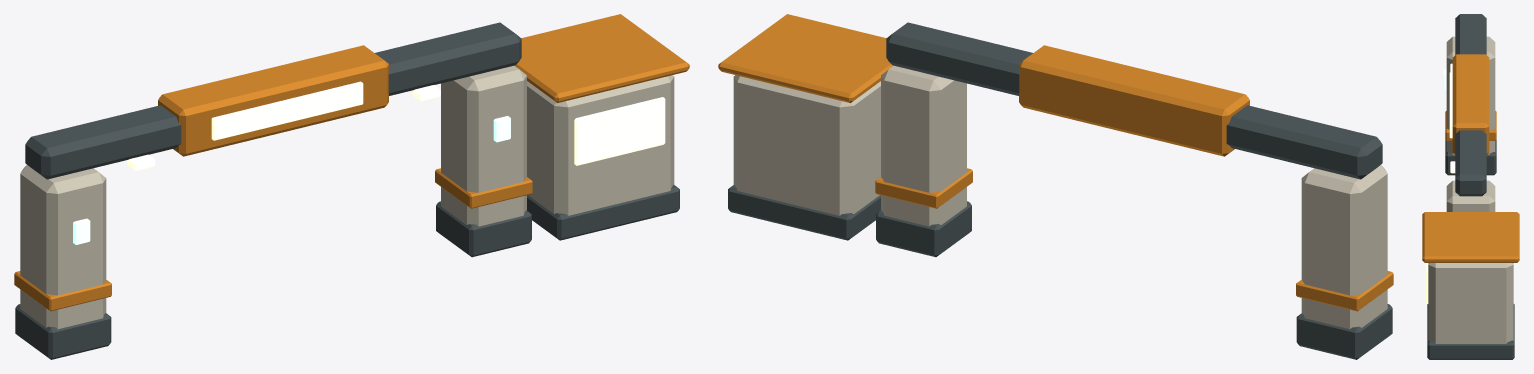
File: fh_gate.glb
3 renders of one model, left to right at view 1: azimuth 30°, elevation 25°; view 2: azimuth 150°, elevation 25°; view 3: azimuth 270°, elevation 25°, orthographic. The views are drawn at different scales.
Parts seen in each view (by area): view 1: fh_gate; view 2: fh_gate; view 3: fh_gate.
Boxes of the visible parts, bbox=[...] form: fh_gate: bbox=[14, 14, 689, 359]; fh_gate: bbox=[718, 14, 1393, 359]; fh_gate: bbox=[1422, 14, 1519, 359].
Bounding box in the file's own units: 4.16 × 1.35 × 0.8.
